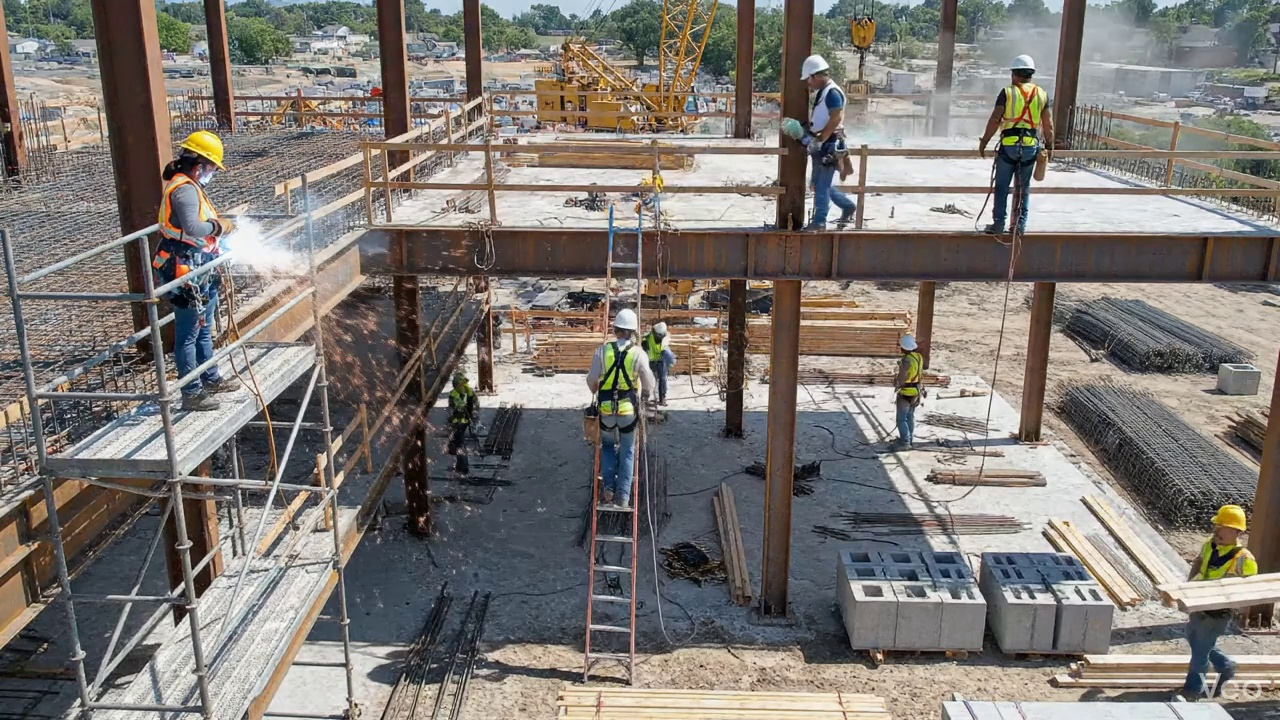PG: (894, 333, 924, 447), (448, 372, 478, 474), (640, 321, 674, 405)
PH: (587, 309, 654, 508), (979, 54, 1053, 234), (152, 130, 233, 284), (801, 55, 855, 229), (168, 274, 219, 377), (181, 366, 239, 410)
